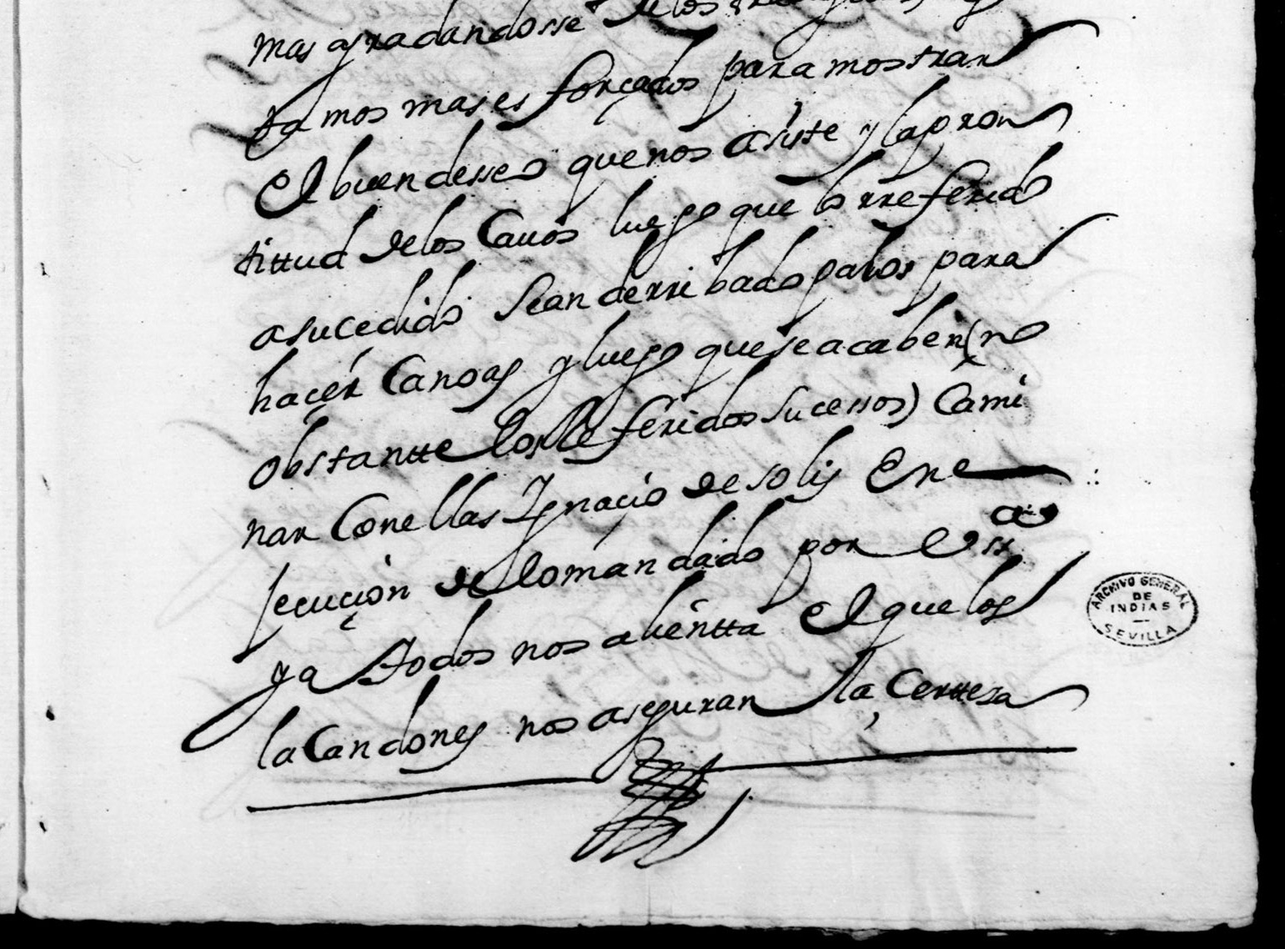lacandon: (257, 674, 487, 774)
